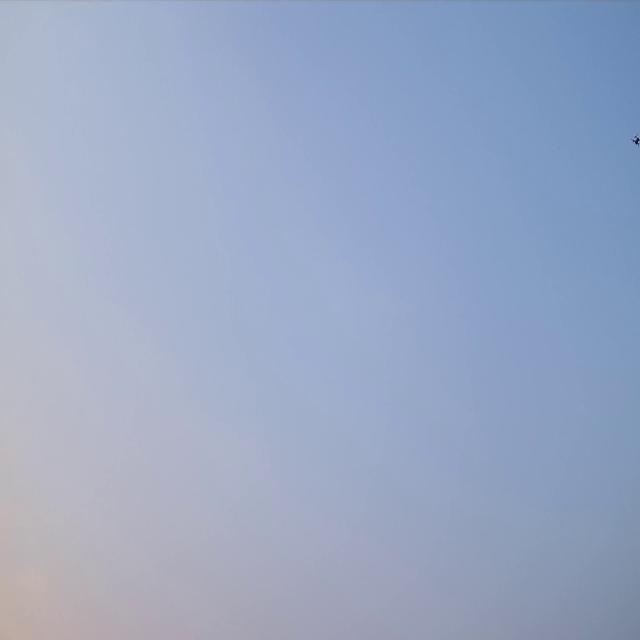UAV: (630, 132, 640, 147)
